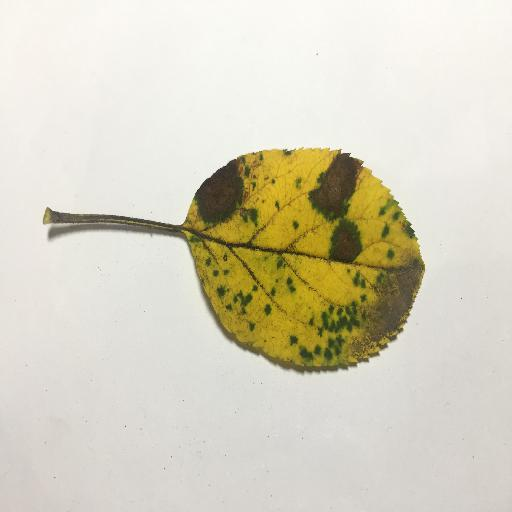Brown_Spot: (357, 274, 414, 359), (200, 265, 284, 319), (311, 310, 351, 368), (308, 158, 346, 212), (197, 186, 238, 220), (337, 226, 359, 265)
